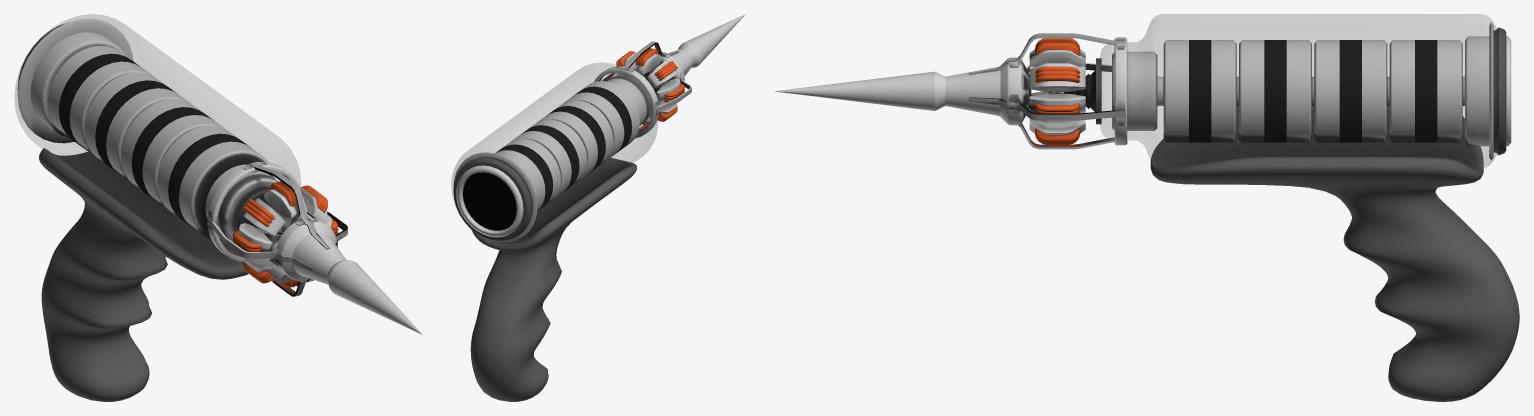
Rendered from RaygunSimple.fbx.
The picture shows the model from 3 angles, left to right: view 1: azimuth 30°, elevation 25°; view 2: azimuth 150°, elevation 25°; view 3: azimuth 270°, elevation 25°; orthographic projection. The views are drawn at different scales.
Parts seen in each view (by area): view 1: RayGun, ring_light, ring_normals, ring_ray, ring_scatter; view 2: RayGun, ResultDisplay, ring_scatter, ring_normals, ring_light, ring_ray; view 3: RayGun, ring_ray, ring_normals, ring_light, ring_scatter.
Boxes of the visible parts, <box> form: RayGun: <box>14,14,422,401</box>; ring_light: <box>157,126,275,241</box>; ring_normals: <box>84,72,190,182</box>; ring_ray: <box>48,46,153,156</box>; ring_scatter: <box>121,99,227,209</box>; RayGun: <box>451,14,745,401</box>; ResultDisplay: <box>463,172,516,230</box>; ring_scatter: <box>537,100,613,179</box>; ring_normals: <box>511,119,587,198</box>; ring_light: <box>563,81,639,160</box>; ring_ray: <box>495,138,560,210</box>; RayGun: <box>774,14,1519,401</box>; ring_ray: <box>1389,40,1462,142</box>; ring_normals: <box>1314,40,1387,142</box>; ring_light: <box>1163,40,1236,142</box>; ring_scatter: <box>1239,40,1311,142</box>.
Size of the model in its own units: 47.71 by 127 by 229.
